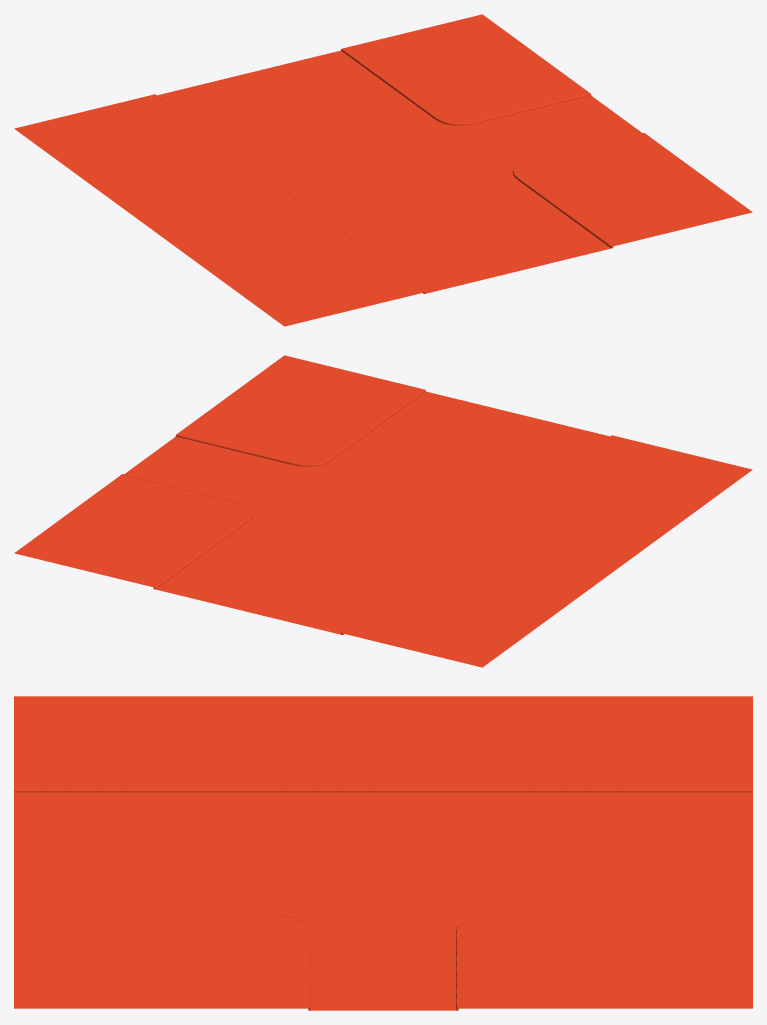
The model's file is SM_MainroadToRoad_Exit_30x30_City.fbx.
3 views of the same model, one above another, from view 1: azimuth 30°, elevation 25°; view 2: azimuth 150°, elevation 25°; view 3: azimuth 270°, elevation 25° (orthographic). The views are drawn at different scales.
Visible parts, largest first — view 1: SM_MainroadToRoad_Exit_30x30_City; view 2: SM_MainroadToRoad_Exit_30x30_City; view 3: SM_MainroadToRoad_Exit_30x30_City.
Part boxes in pixels (x1,y1,x2,y2): SM_MainroadToRoad_Exit_30x30_City: [14, 14, 752, 326]; SM_MainroadToRoad_Exit_30x30_City: [14, 355, 752, 667]; SM_MainroadToRoad_Exit_30x30_City: [14, 696, 752, 1010].
Size of the model in its own units: 30 by 0.1084 by 30.
